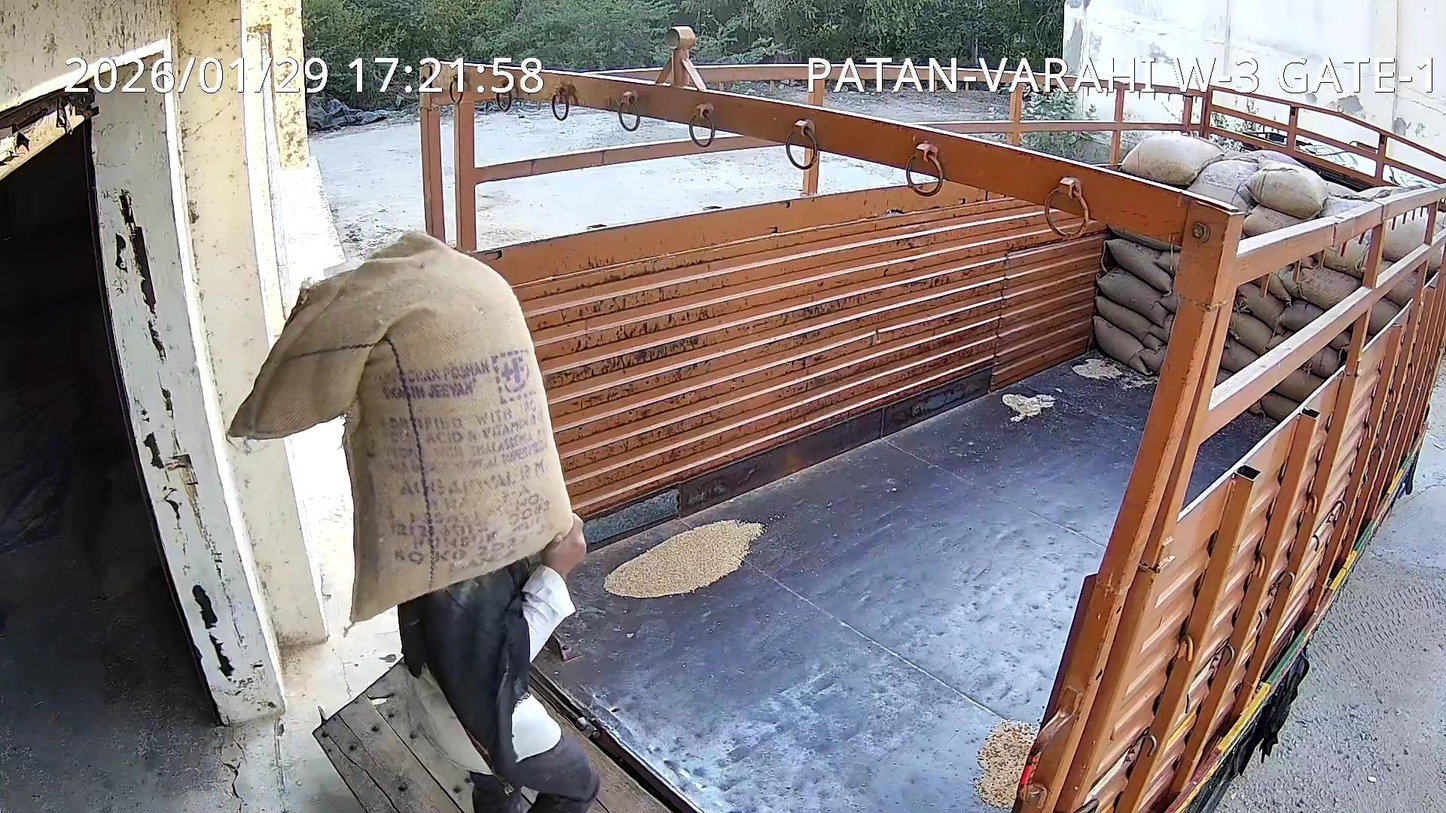Sack: (230, 232, 571, 621)
